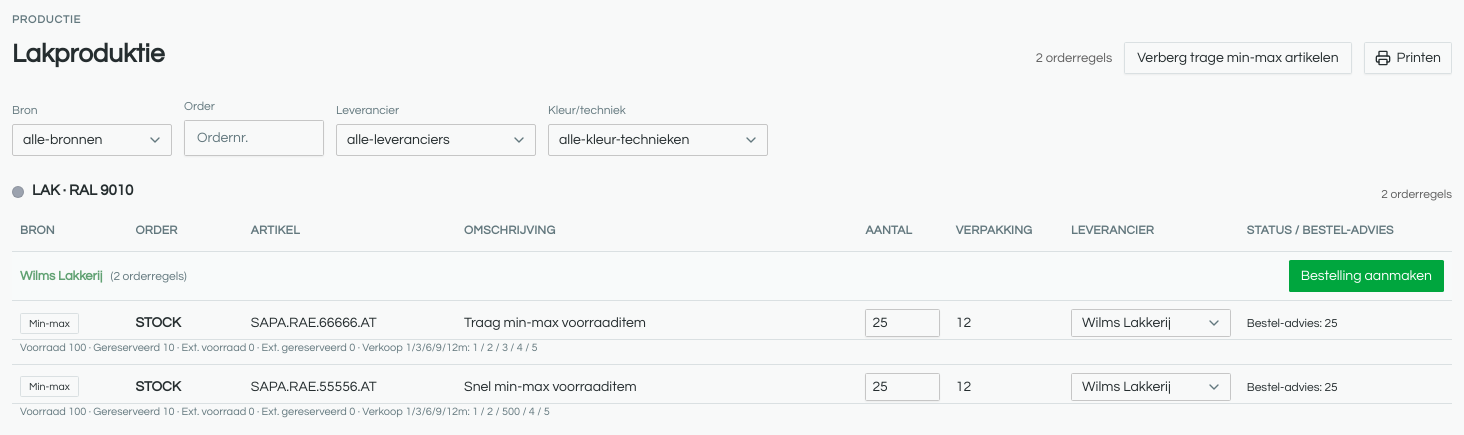
Test: LakproductiePage › hides slow-moving min-max-voorraad rows (verkoop6Maand < voorraad) when the toggle is clicked
expect the text "SAPA.RAE.66666.AT" is shown: met, box [243,300,456,340]
expect the text "SAPA.RAE.55556.AT" is shown: met, box [243,364,456,403]
Click the button "Verberg trage min-max artikelen" at (1238, 58), box [1124,42,1352,74]
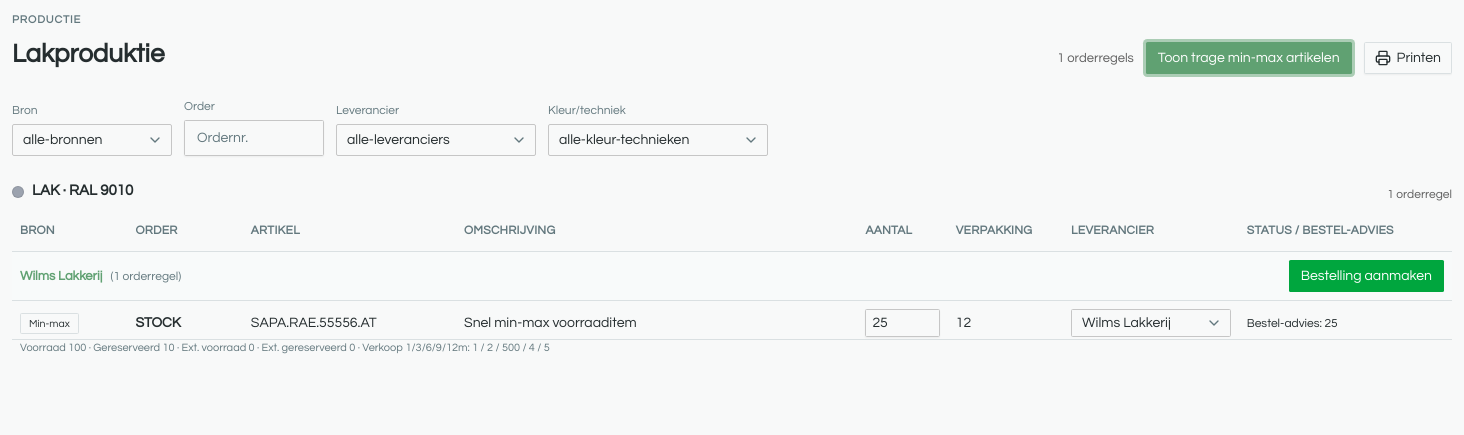
expect the text "SAPA.RAE.55556.AT" is shown: met, box [243,300,456,340]
expect the button "SAPA.RAE.66666.AT" is gone: met
Toggling back shows it again.
Click the button "Toon trage min-max artikelen" at (1249, 58), box [1146,42,1352,74]
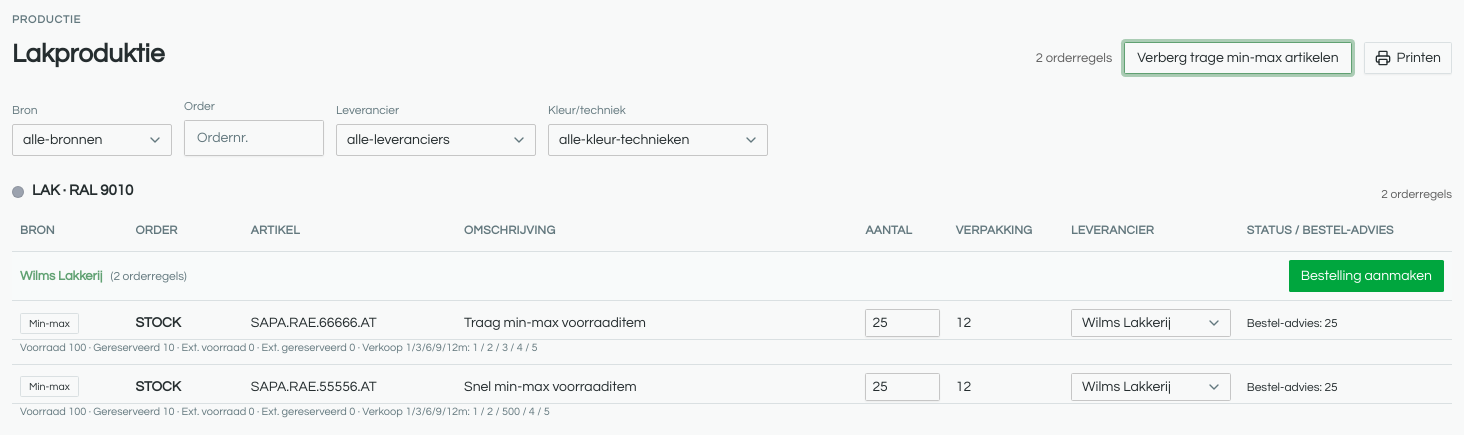
expect the text "SAPA.RAE.66666.AT" is shown: met, box [243,300,456,340]
